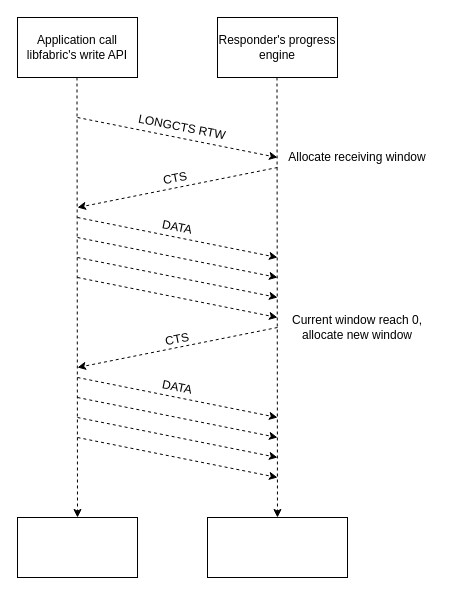
This 455x595 diagram has some shape labels left out. The shapes that lost their labels are listed below. From the top down, each one's centre as x and y in pixels, then its label:
At point 77,547: "Application get libfabric's completion".
At point 277,547: "No completion unless FI_REMOTE_CQ_DATA".
